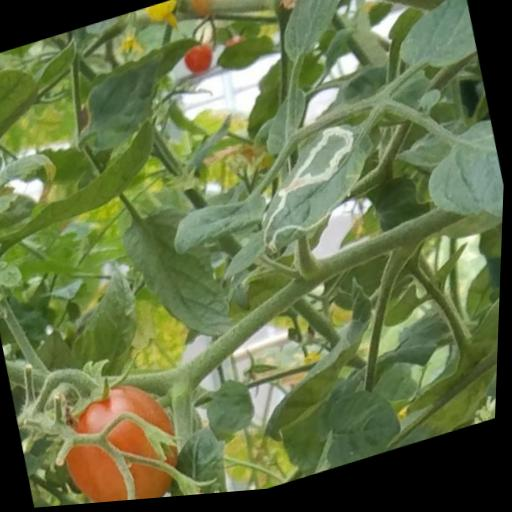Healthy: (113, 191, 240, 364), (316, 380, 418, 476), (260, 0, 375, 76)
Leaf_Miner: (240, 115, 395, 266)
